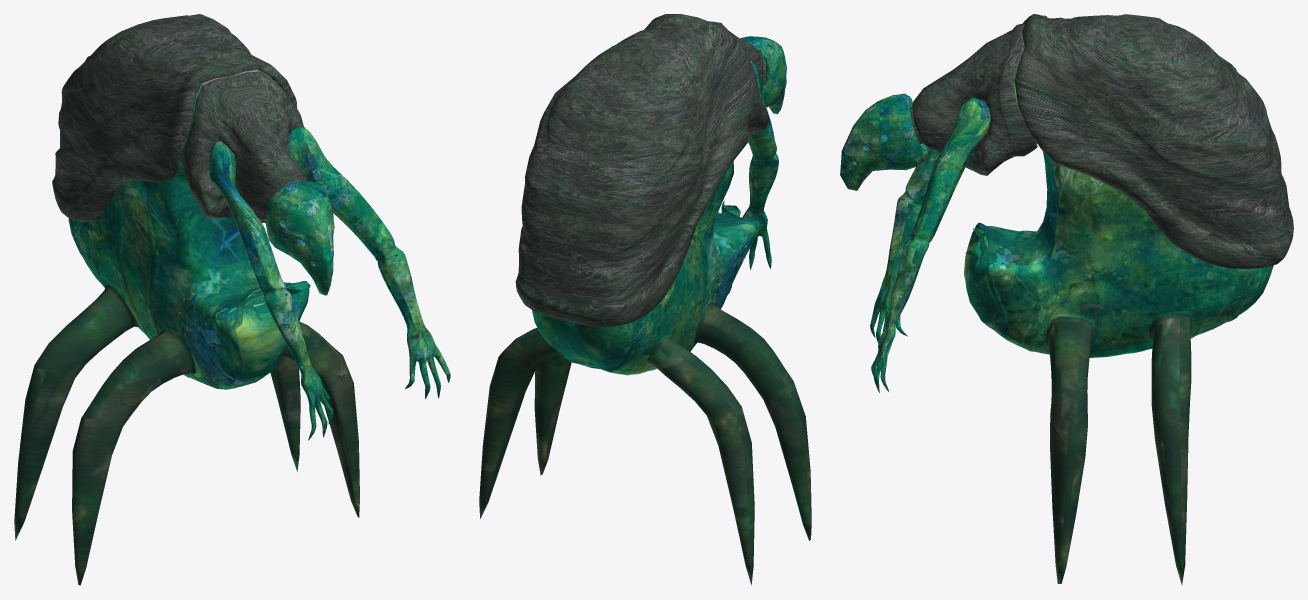
Rendered from Aranar.0016.obj.
3 views of the same model, side by side, from view 1: azimuth 30°, elevation 25°; view 2: azimuth 150°, elevation 25°; view 3: azimuth 270°, elevation 25° (orthographic). The views are drawn at different scales.
Size of the model in its own units: 2.29 by 3.85 by 3.21.
5 materials, 4 textured.
